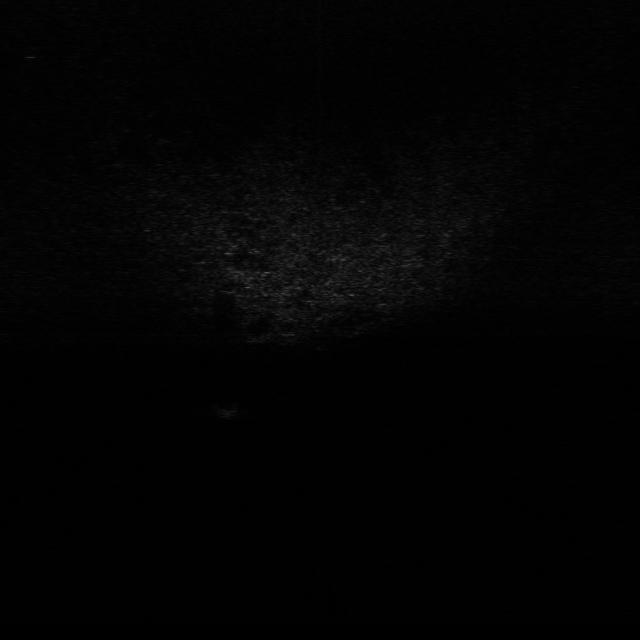cube: (210, 398, 240, 424)
